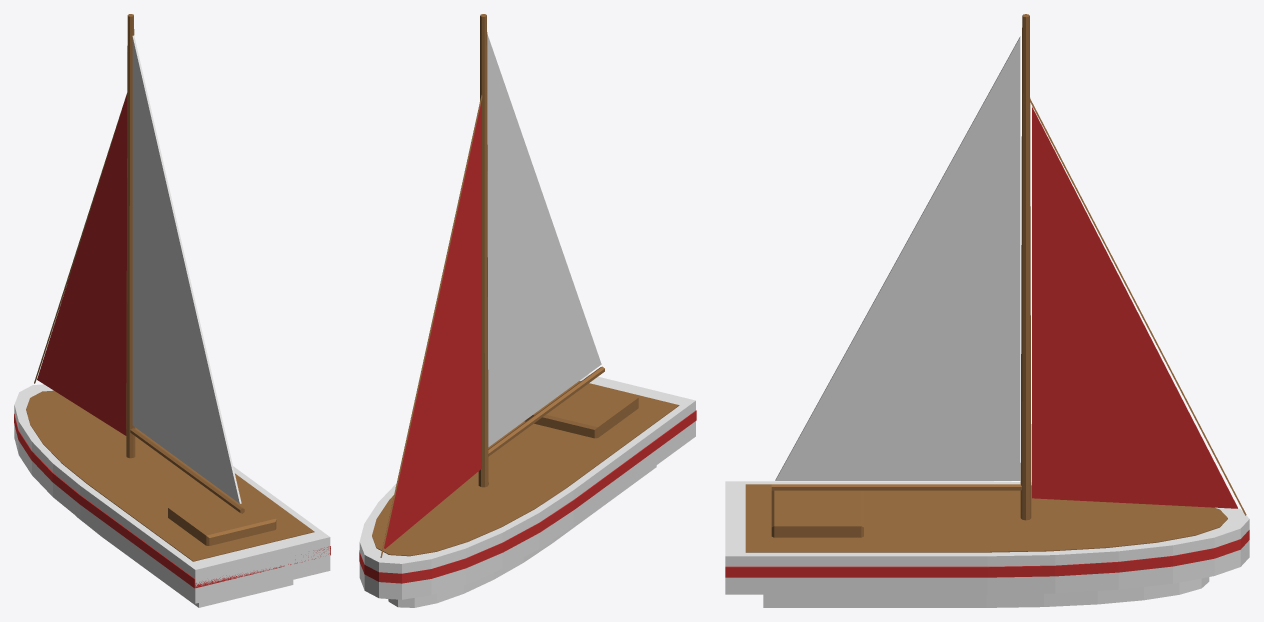
Rendered from SAILBOAT.glb.
3 views of the same model, side by side, from view 1: azimuth 30°, elevation 25°; view 2: azimuth 150°, elevation 25°; view 3: azimuth 270°, elevation 25° (orthographic). The views are drawn at different scales.
Visible parts, largest first — view 1: Sail, Wood, Jib, PropWhite, PropRed; view 2: Sail, Wood, Jib, PropWhite, PropRed; view 3: Sail, Jib, Wood, PropWhite, PropRed.
Part boxes in pixels (x1=…): Sail: x1=132, y1=35, x2=241, y2=503; Wood: x1=26, y1=14, x2=314, y2=561; Jib: x1=37, y1=94, x2=127, y2=435; PropWhite: x1=14, y1=384, x2=330, y2=607; PropRed: x1=14, y1=414, x2=330, y2=588; Sail: x1=487, y1=34, x2=601, y2=446; Wood: x1=372, y1=14, x2=679, y2=557; Jib: x1=384, y1=102, x2=481, y2=548; PropWhite: x1=359, y1=374, x2=695, y2=607; PropRed: x1=359, y1=410, x2=696, y2=583; Sail: x1=775, y1=36, x2=1020, y2=480; Jib: x1=1032, y1=107, x2=1237, y2=508; Wood: x1=745, y1=14, x2=1246, y2=552; PropWhite: x1=725, y1=481, x2=1249, y2=607; PropRed: x1=725, y1=530, x2=1249, y2=577.
Size of the model in its own units: 4.65 by 16.2 by 13.6.
